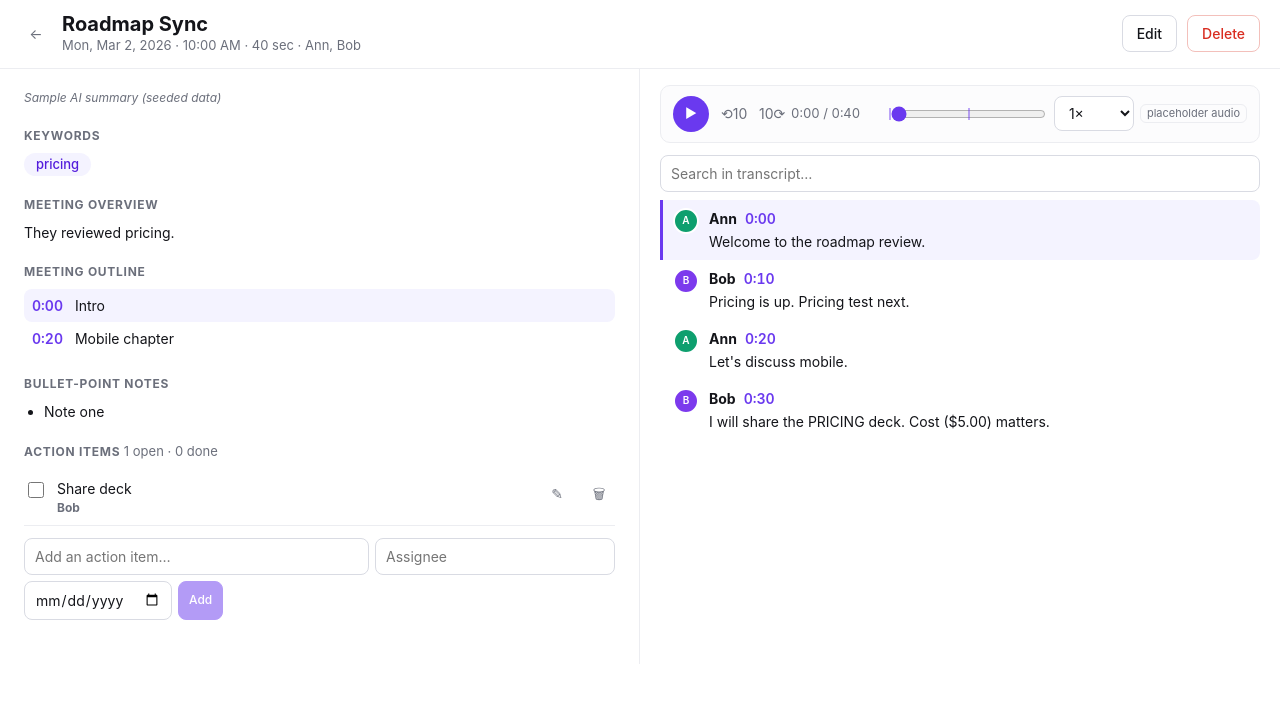
Test case: transcript ↔ player sync › clicking a transcript line seeks the player and starts playback
expect the heading "Roadmap Sync" is shown: met, box [62,12,208,36]
Click the button "A Ann 0:20 Let's discuss mobile.". click: x=760, y=348
box: [673,328,848,370]
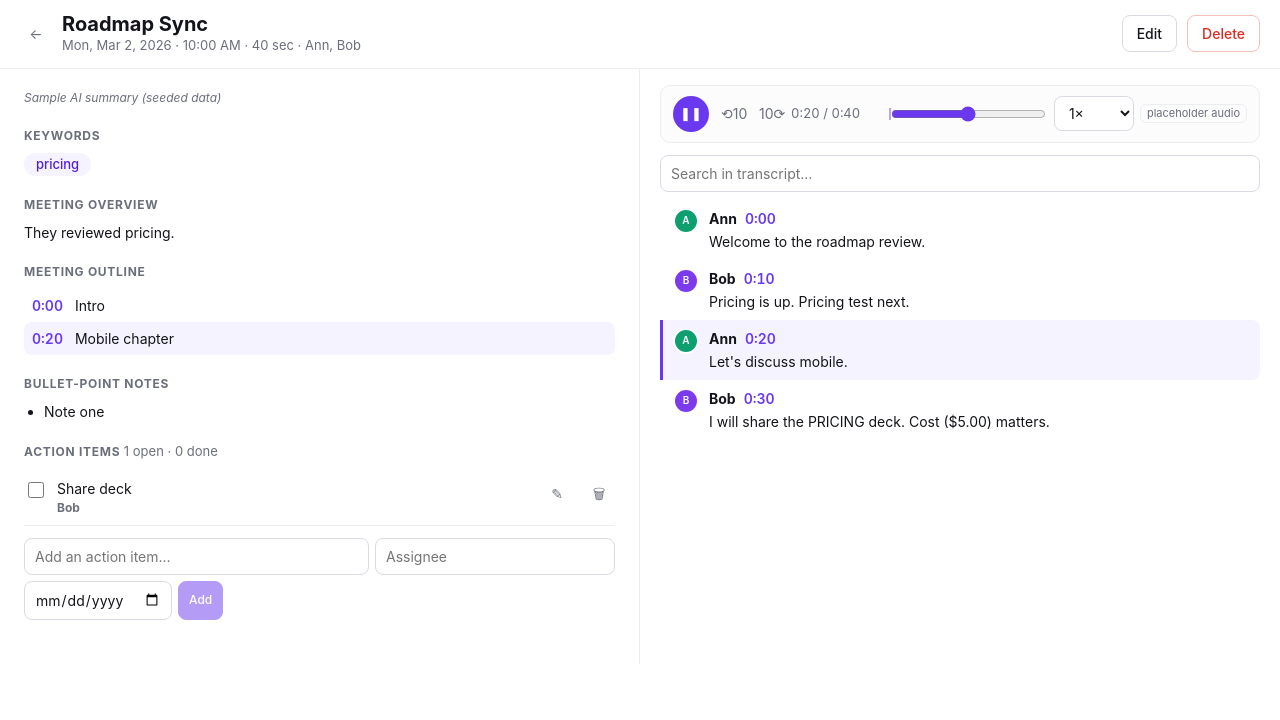
expect the slider named "Seek" holds "20000": met, box [891,106,1046,122]
expect the text "0:20 / 0:40" is shown: met, box [791,105,860,121]
expect the button named "Pause" is shown: met, box [673,96,709,132]
